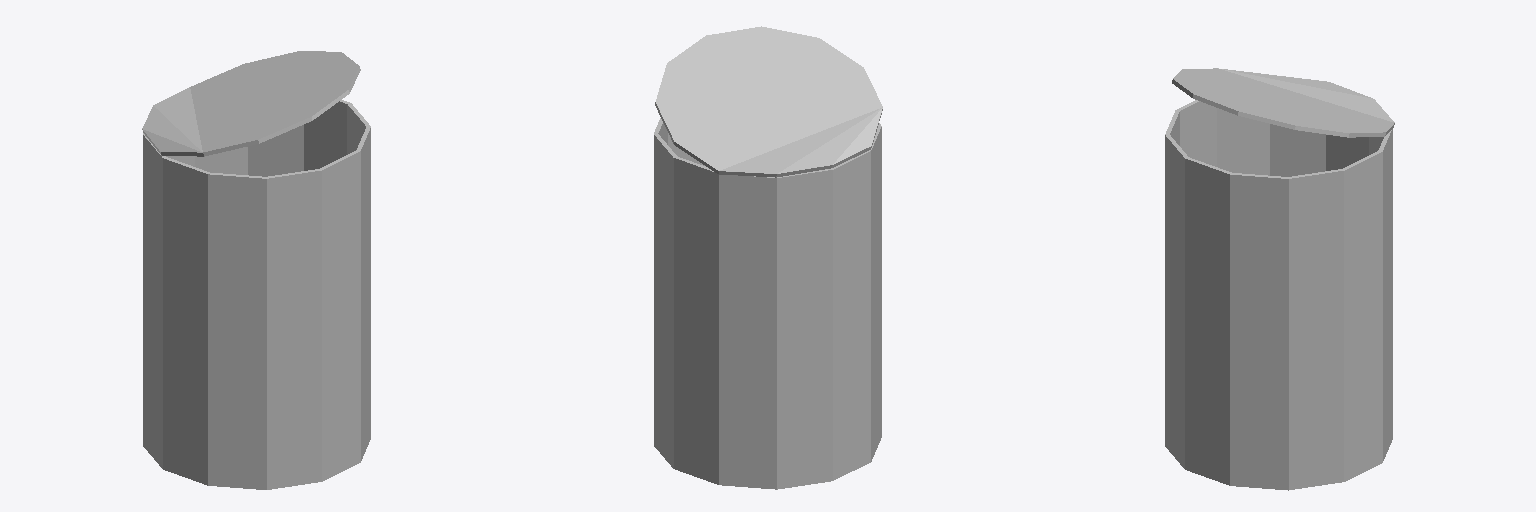
File: Trash _2.obj
3 views of the same model, side by side, from view 1: azimuth 30°, elevation 25°; view 2: azimuth 150°, elevation 25°; view 3: azimuth 270°, elevation 25° (orthographic).
Visible parts, largest first — view 1: Cylinder.001; view 2: Cylinder.001; view 3: Cylinder.001.
Part boxes in pixels (x1,y1,x2,y2): Cylinder.001: (142, 51, 370, 489); Cylinder.001: (654, 26, 882, 489); Cylinder.001: (1165, 68, 1394, 490).
Size of the model in its own units: 0.3614 by 0.6449 by 0.3615.